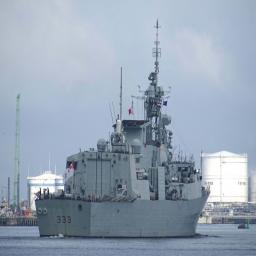Fragata: (35, 9, 214, 239)
